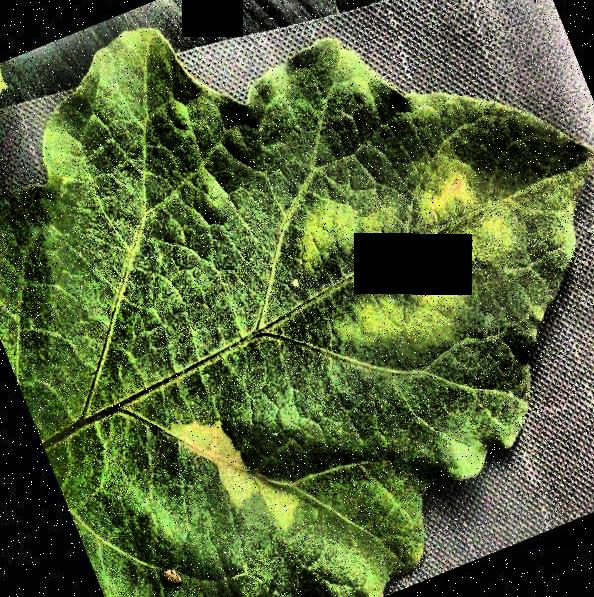Critical Stress: (0, 0, 594, 597)
